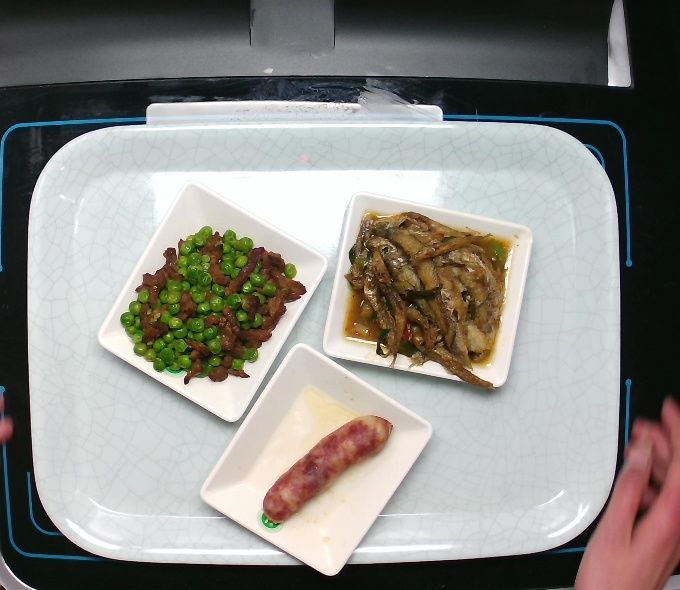wcq-CanDouNiuRou: (121, 221, 307, 384)
wcq-XiangChang: (262, 413, 398, 522)
wcq-XiaoJiYu: (348, 208, 513, 393)
